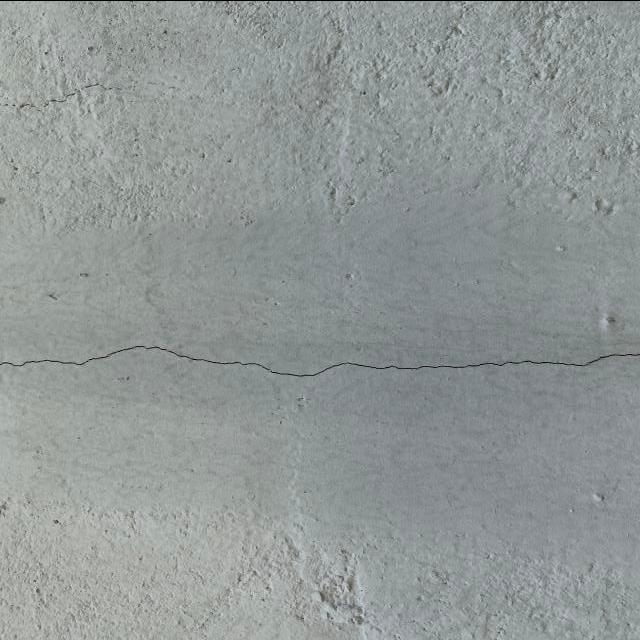SurfaceCrack: (0, 298, 639, 421)
